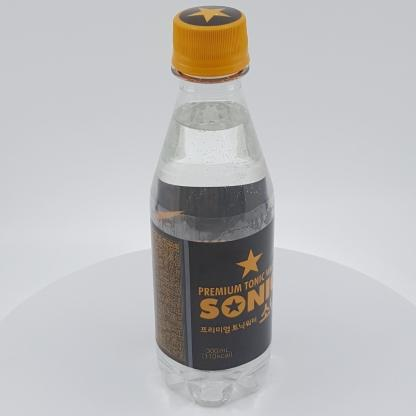----------------300ML: (149, 5, 275, 407)
